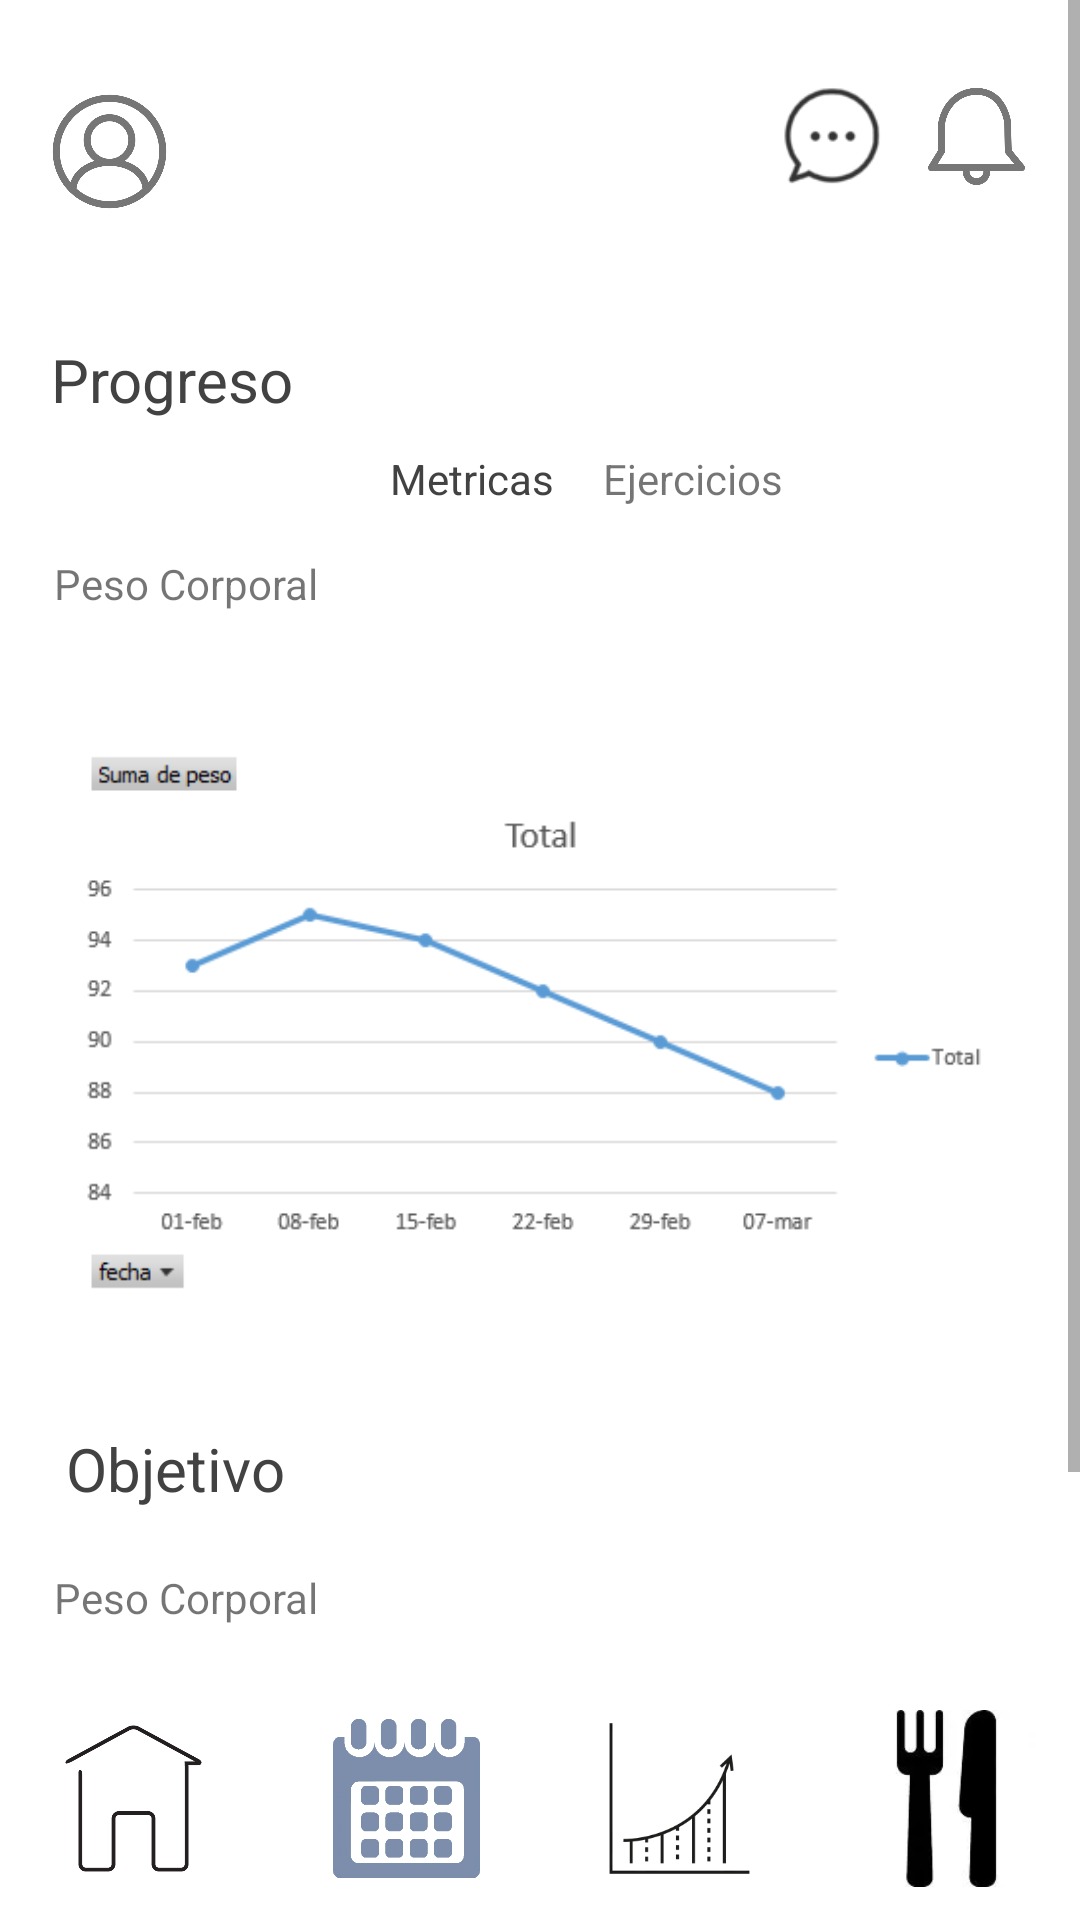

Named icons in this screenshot (1080×1920) and their centers, (x=x, y=y):
iconocampana: (x=976, y=136)
iconochat: (x=832, y=135)
iconousuario: (x=109, y=151)
